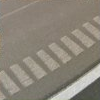crosswalk: (0, 15, 99, 100)
